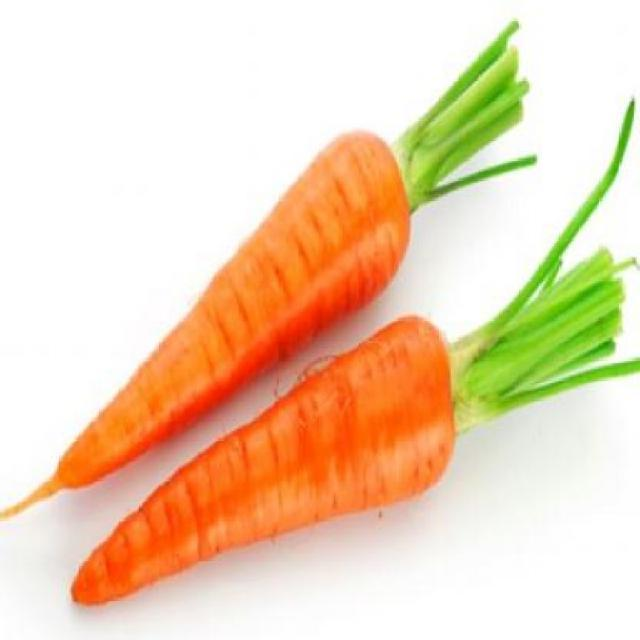carrot: (33, 124, 414, 506), (65, 308, 456, 617)
